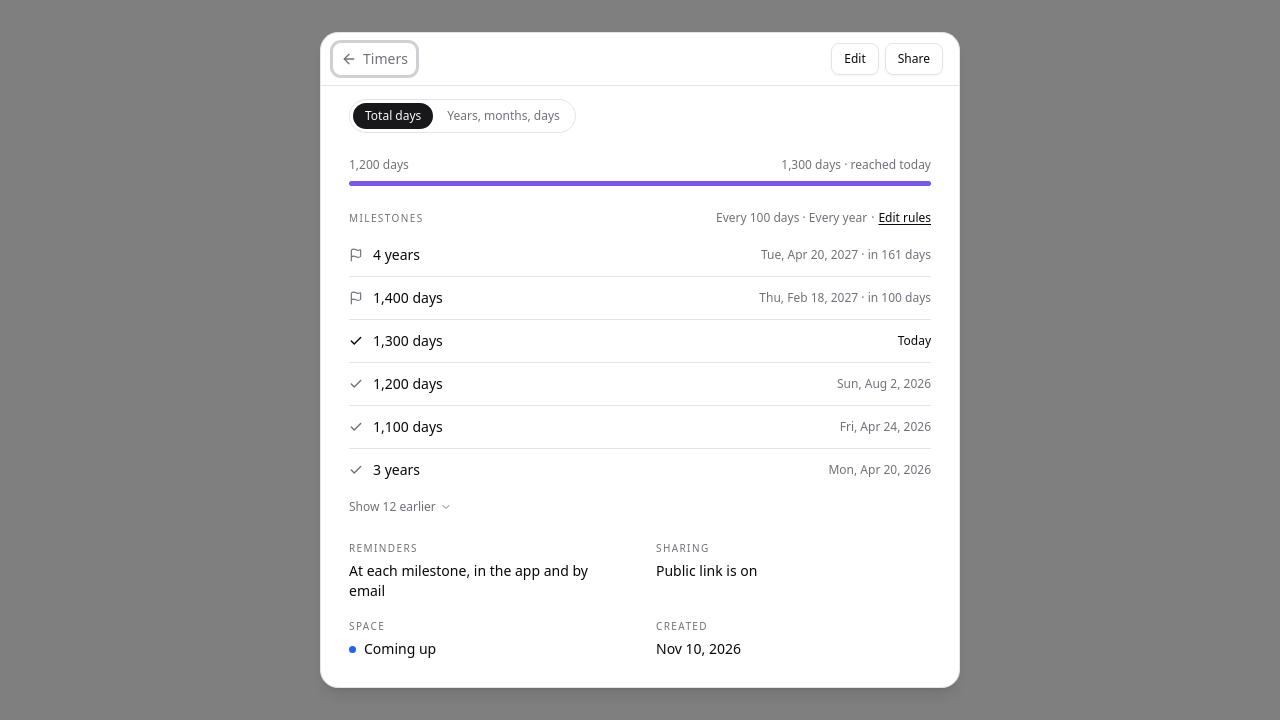
Test: TimerDetailDialog › shows three reached milestones and reveals the earlier ones on request
(page scrolled)
Expected: the number of list items with test id "timer-detail-milestone-reached" is 3, [349,363,931,406]; [349,406,931,449]; [349,460,931,479]
Click the button "Show 12 earlier" at (400, 507), box [343,495,458,519]
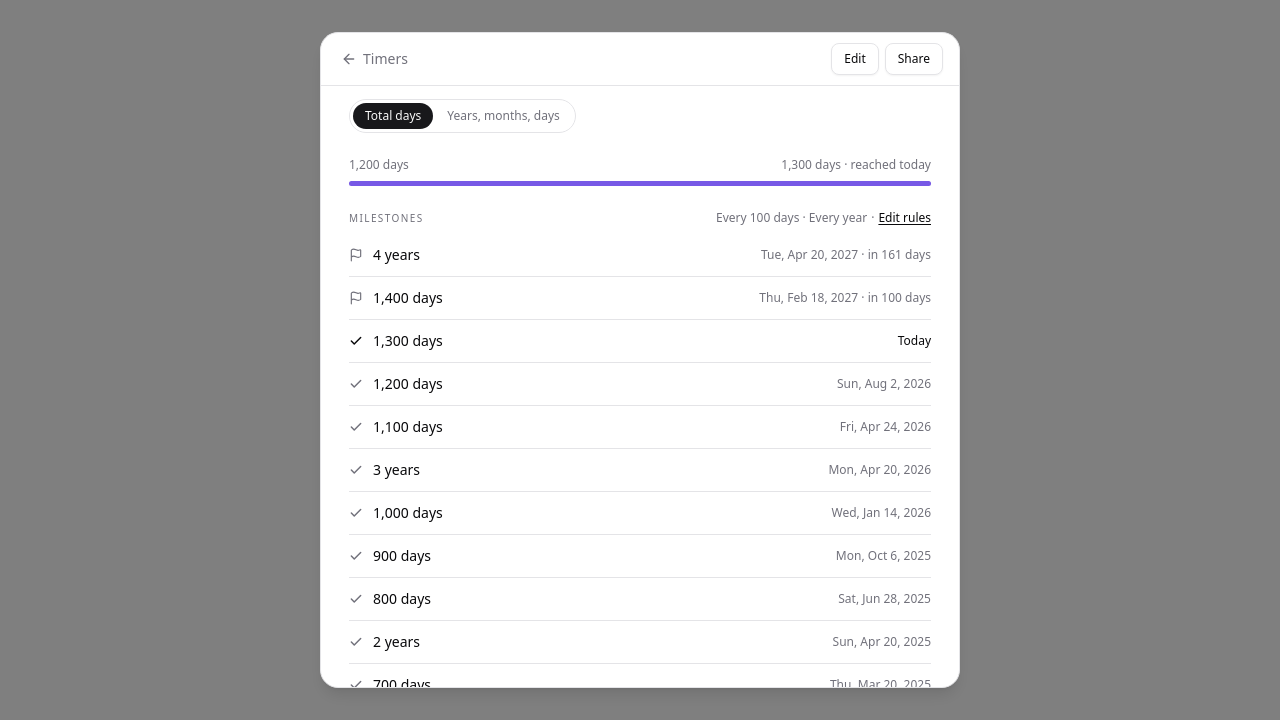
Expected: the button "earlier" is gone
